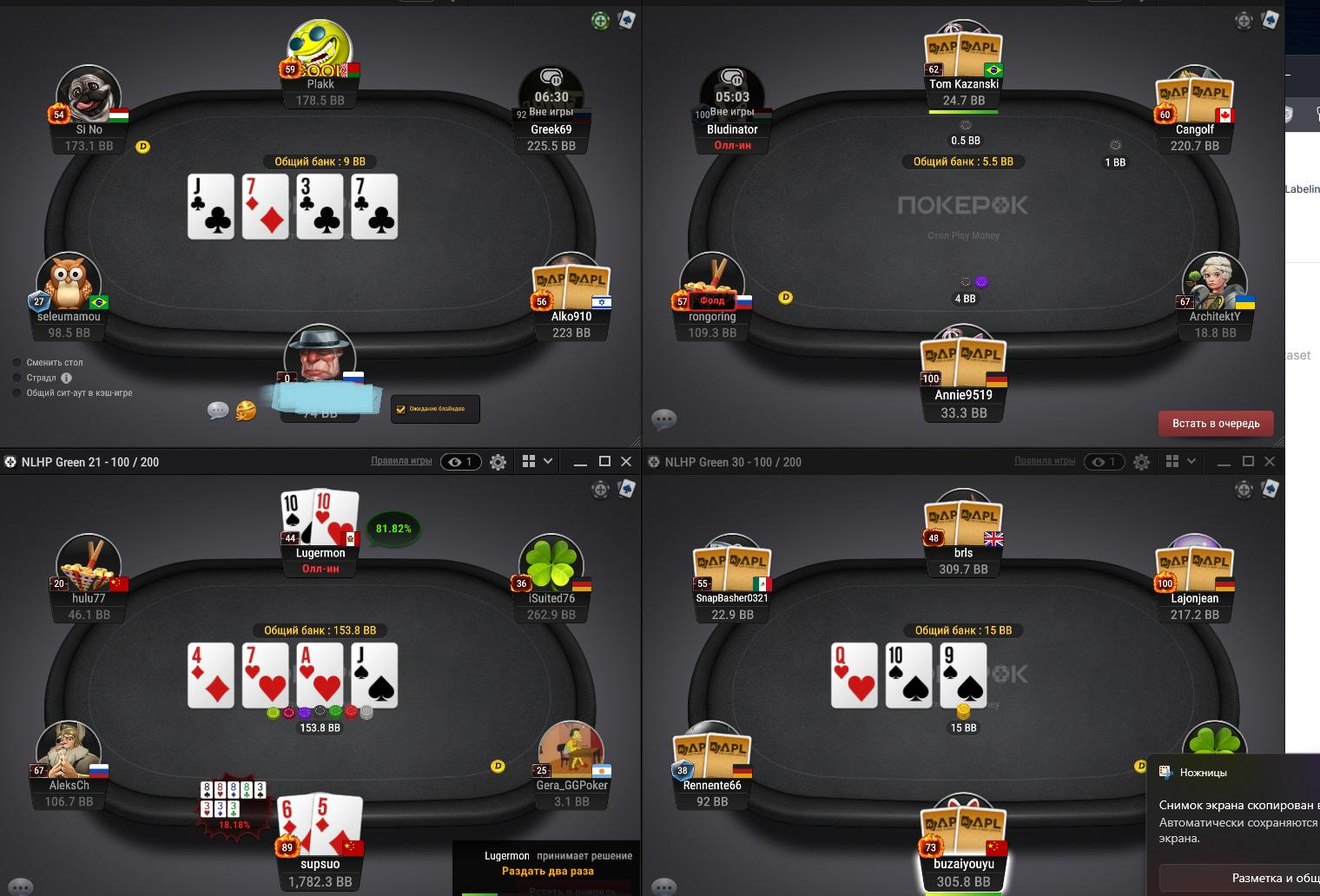10h: (311, 485, 359, 547)
10s: (886, 645, 930, 707), (281, 487, 315, 547)
3c: (296, 174, 345, 238)
4d: (190, 645, 232, 707)
5d: (310, 790, 363, 855)
6d: (277, 794, 311, 858)
7c: (351, 173, 398, 241)
7d: (243, 174, 289, 239)
7h: (244, 644, 289, 708)
9s: (942, 644, 985, 708)
Ah: (296, 645, 341, 709)
Jc: (188, 174, 234, 239)
Js: (352, 642, 400, 708)
Qh: (833, 643, 879, 709)
